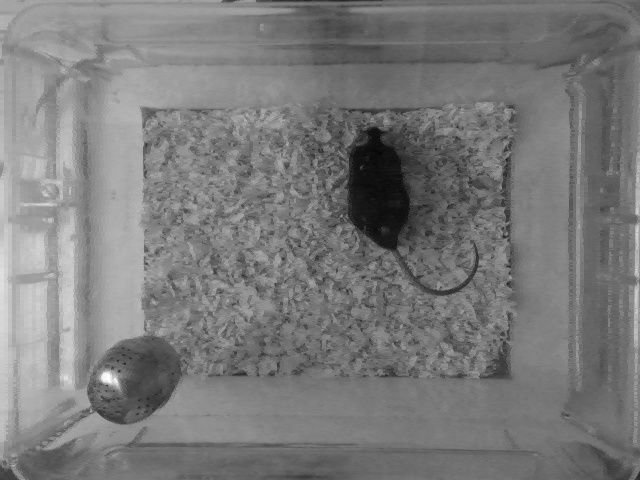mice: (348, 124, 481, 293)
